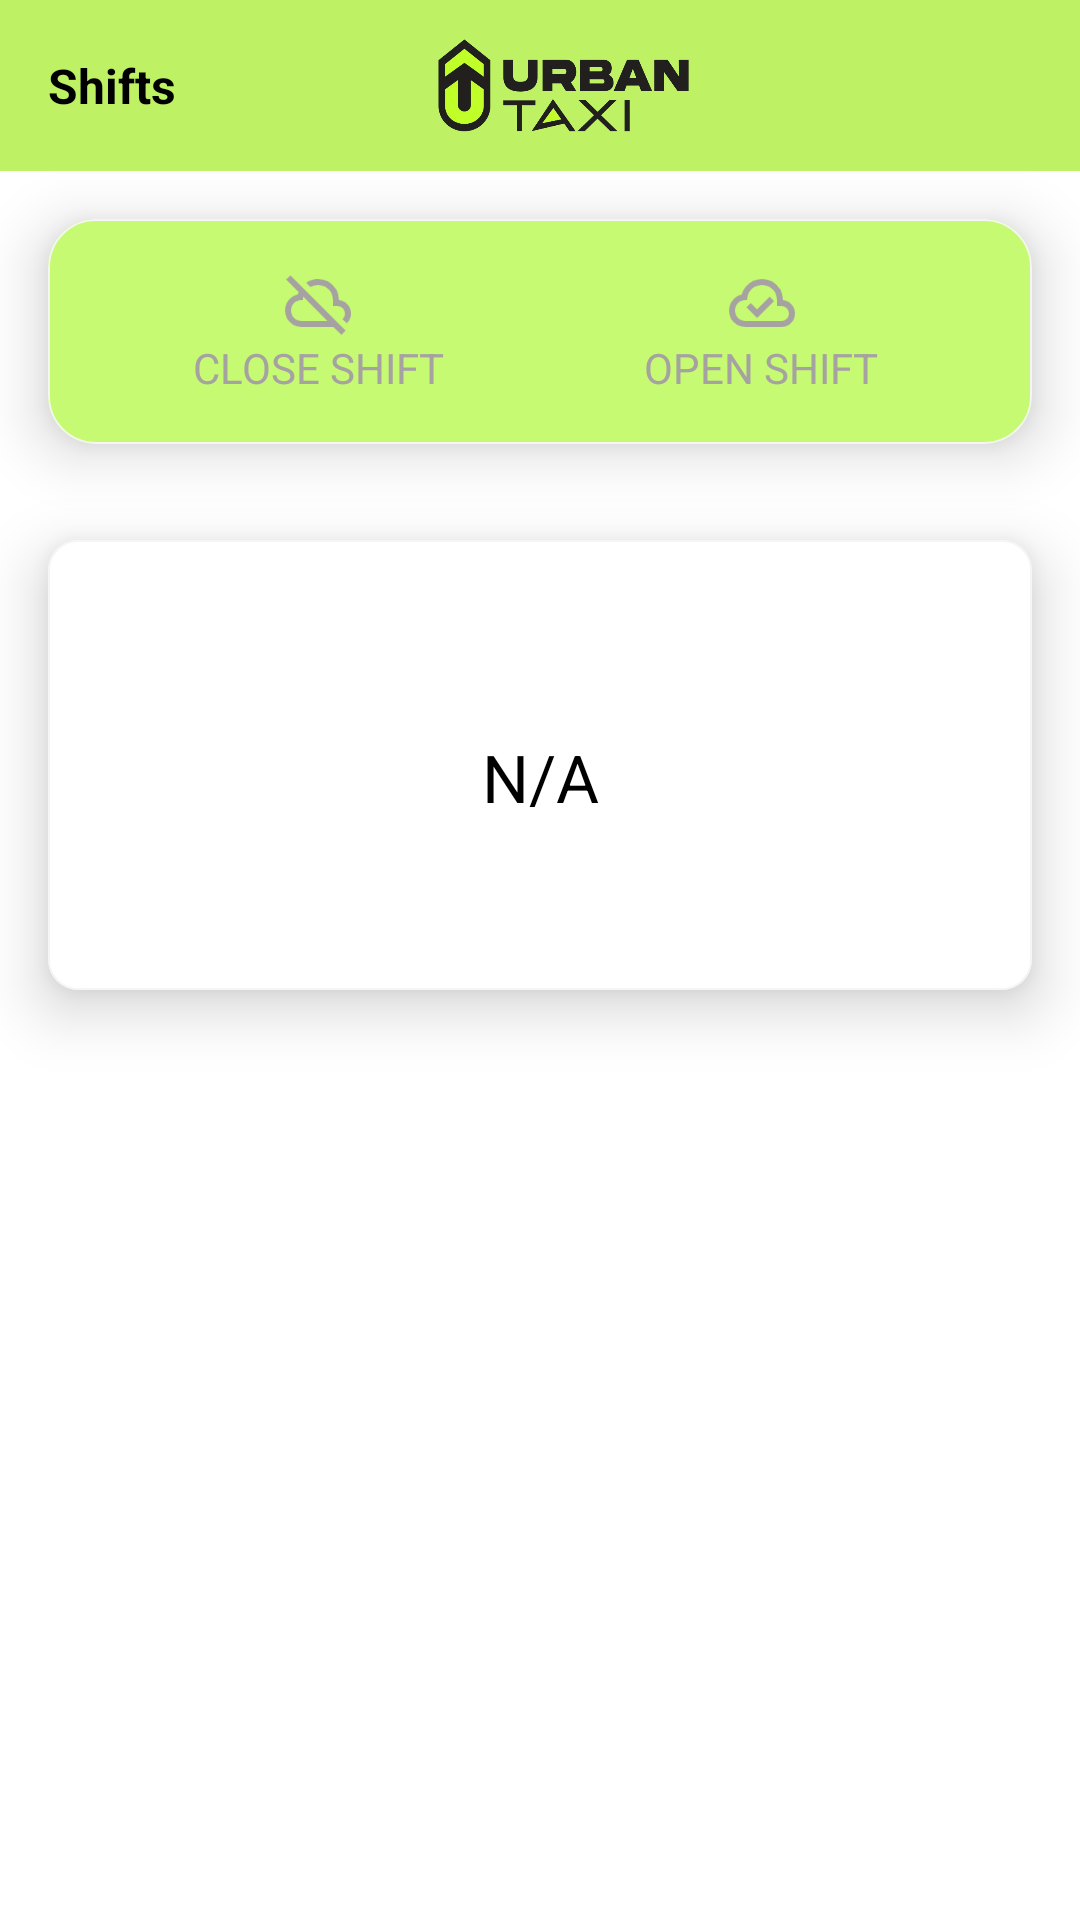

Where to tap for icons on this 1080 × 1920 app screen, as (x,y):
offline: (318,305)
online: (762,303)
